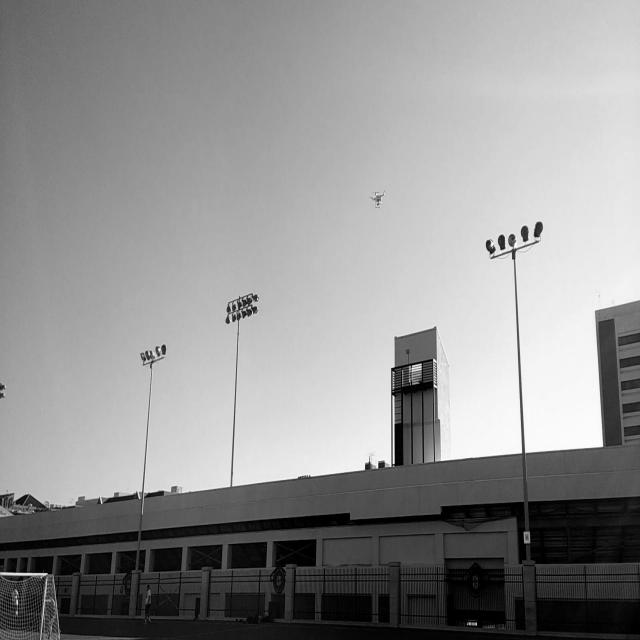drone: (371, 185, 387, 210)
